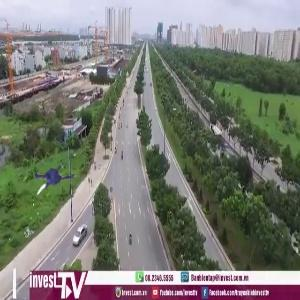drone: (24, 153, 80, 209)
